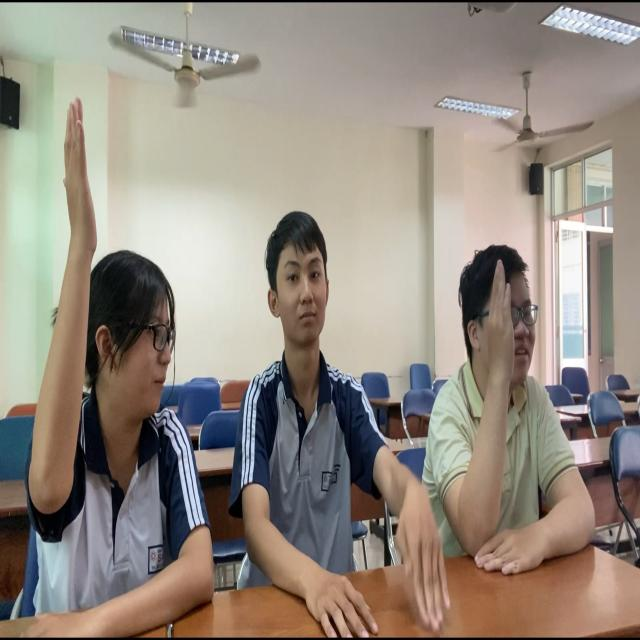raise_hand: (1, 68, 219, 640), (445, 225, 601, 598)
